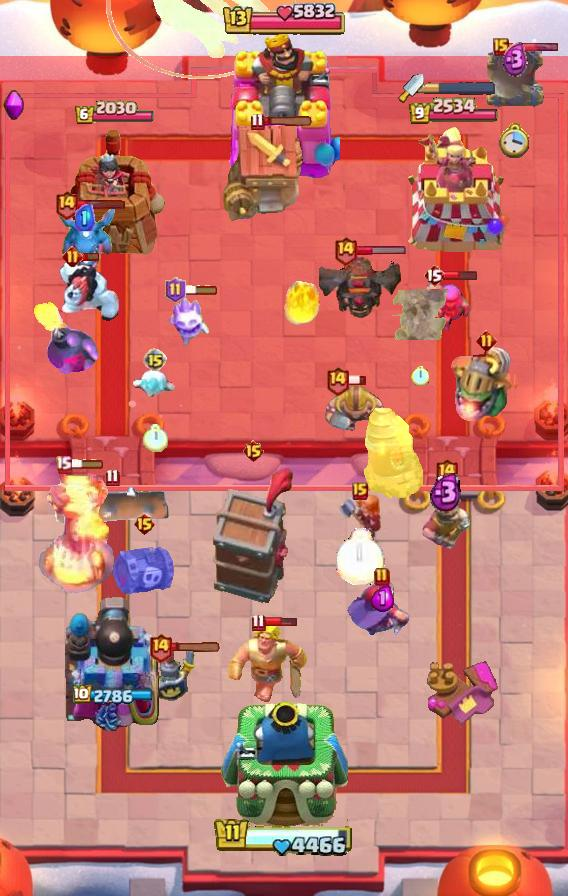archer-evolution: (319, 254, 405, 320)
baby-dragon: (28, 300, 100, 374)
bar: (394, 126, 512, 256)
bat: (132, 366, 178, 402)
clock: (214, 818, 354, 859), (221, 0, 347, 40)
dart-goblin: (211, 466, 295, 604)
earthquake: (420, 489, 472, 553)
electro-dragon: (37, 468, 115, 596)
electro-spirit: (429, 471, 463, 513), (502, 42, 528, 78), (370, 585, 393, 612), (75, 205, 95, 232)
elixir: (335, 528, 385, 585), (500, 121, 533, 159), (144, 424, 169, 452), (411, 365, 429, 387)
elixir-golem-big: (347, 577, 417, 641)
emote: (507, 42, 559, 53), (262, 117, 314, 128), (170, 642, 222, 653), (356, 245, 407, 256), (76, 199, 126, 210), (183, 284, 219, 296), (69, 458, 105, 470), (442, 269, 477, 281), (263, 616, 298, 628), (347, 374, 367, 386), (80, 250, 100, 261)
fisherman: (391, 288, 450, 339)
goblin-giant: (324, 384, 386, 432)
goblin-hut: (225, 622, 309, 704)
graveyard: (54, 203, 116, 275)
hog-rider: (337, 494, 383, 544)
ice-wizard: (106, 0, 296, 80)
king-tower: (228, 29, 340, 181), (220, 702, 348, 827)
king-tower-bar: (424, 81, 496, 95)
magic-archer: (363, 407, 423, 499)
minion: (51, 485, 173, 529)
mirror: (166, 293, 210, 347)
musketeer: (483, 44, 547, 110)
night-witch: (448, 344, 524, 422)
princess: (149, 646, 197, 704)
queen-tower: (59, 128, 169, 256)
rage: (56, 260, 122, 324)
royal-recruit-evolution: (113, 541, 175, 597)
selected: (409, 98, 500, 126), (73, 100, 154, 126), (73, 686, 155, 707)
skeleton-king-skill: (3, 89, 25, 123)
sparky: (223, 125, 309, 223)
text: (53, 189, 78, 220), (334, 235, 359, 266), (325, 364, 350, 395), (433, 457, 458, 488), (147, 632, 172, 663), (143, 348, 167, 372), (242, 439, 265, 463), (132, 512, 155, 536), (165, 277, 186, 303), (423, 263, 445, 287), (62, 245, 83, 266), (476, 329, 497, 350), (55, 455, 73, 473), (374, 567, 390, 587), (493, 38, 509, 56), (352, 482, 368, 500), (250, 113, 265, 132), (250, 612, 265, 631), (105, 469, 119, 487)
tombstone: (424, 280, 472, 330)
tower-bar: (65, 593, 163, 731)
valkyrie: (280, 269, 326, 327)
